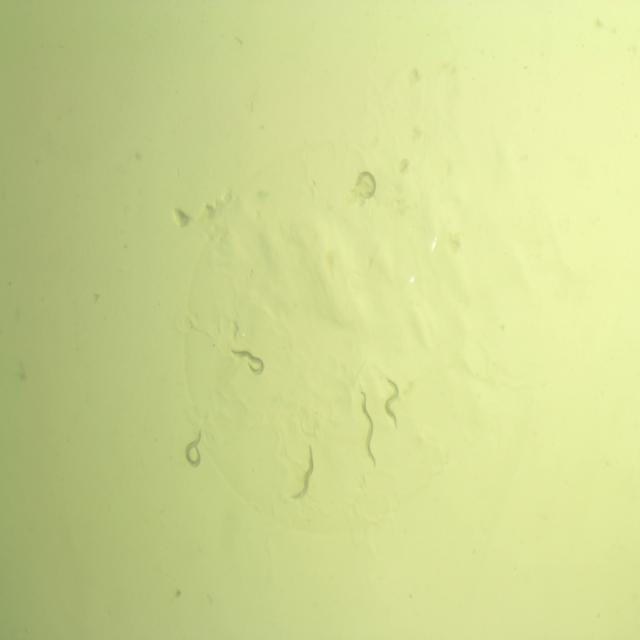worm: (354, 385, 380, 476), (286, 438, 318, 508), (381, 371, 404, 433), (179, 426, 204, 475), (231, 345, 267, 378), (352, 166, 377, 206)
